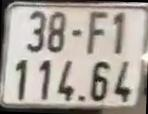-: (72, 29, 85, 38)
.: (78, 93, 86, 103)
1: (113, 10, 126, 54), (15, 58, 28, 101), (39, 59, 49, 101)
3: (27, 12, 46, 53)
4: (114, 60, 132, 103), (58, 62, 74, 101)
6: (89, 60, 111, 101)
8: (49, 11, 66, 53)
F: (88, 10, 109, 56)
